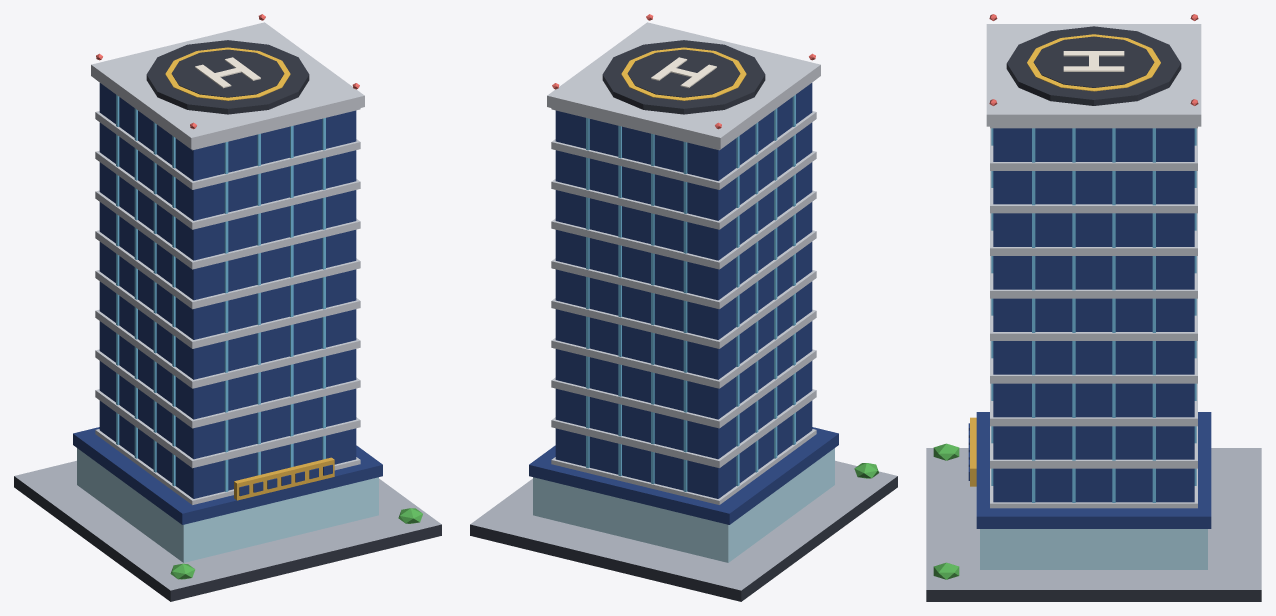
The model's file is office_helipad.glb.
The picture shows the model from 3 angles, left to right: view 1: azimuth 30°, elevation 25°; view 2: azimuth 150°, elevation 25°; view 3: azimuth 270°, elevation 25°; orthographic projection. The views are drawn at different scales.
Visible parts, largest first — view 1: office_helipad; view 2: office_helipad; view 3: office_helipad.
Boxes of the visible parts, box(x1,y1,x2,y2) form: office_helipad: box(14, 14, 441, 601); office_helipad: box(470, 14, 897, 601); office_helipad: box(926, 14, 1261, 601).
Size of the model in its own units: 1 by 1.56 by 1.
